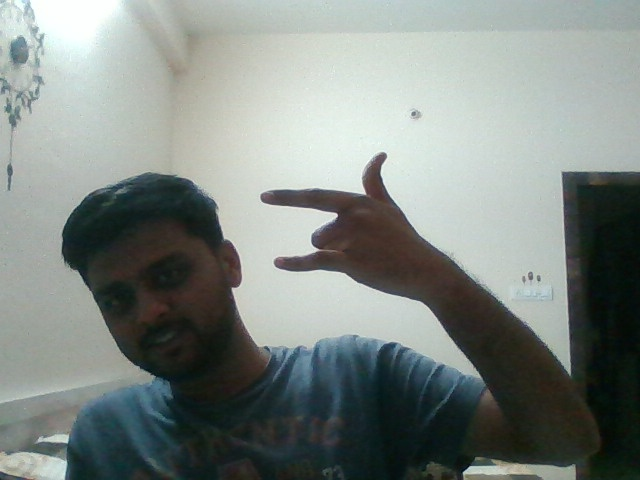haila: (243, 149, 494, 312)
